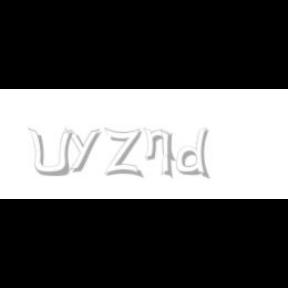I: (161, 128, 174, 180)
U: (28, 128, 72, 178)
Z: (104, 128, 142, 178)
d: (177, 128, 214, 180)
n: (143, 128, 177, 162)
y: (64, 128, 104, 172)
